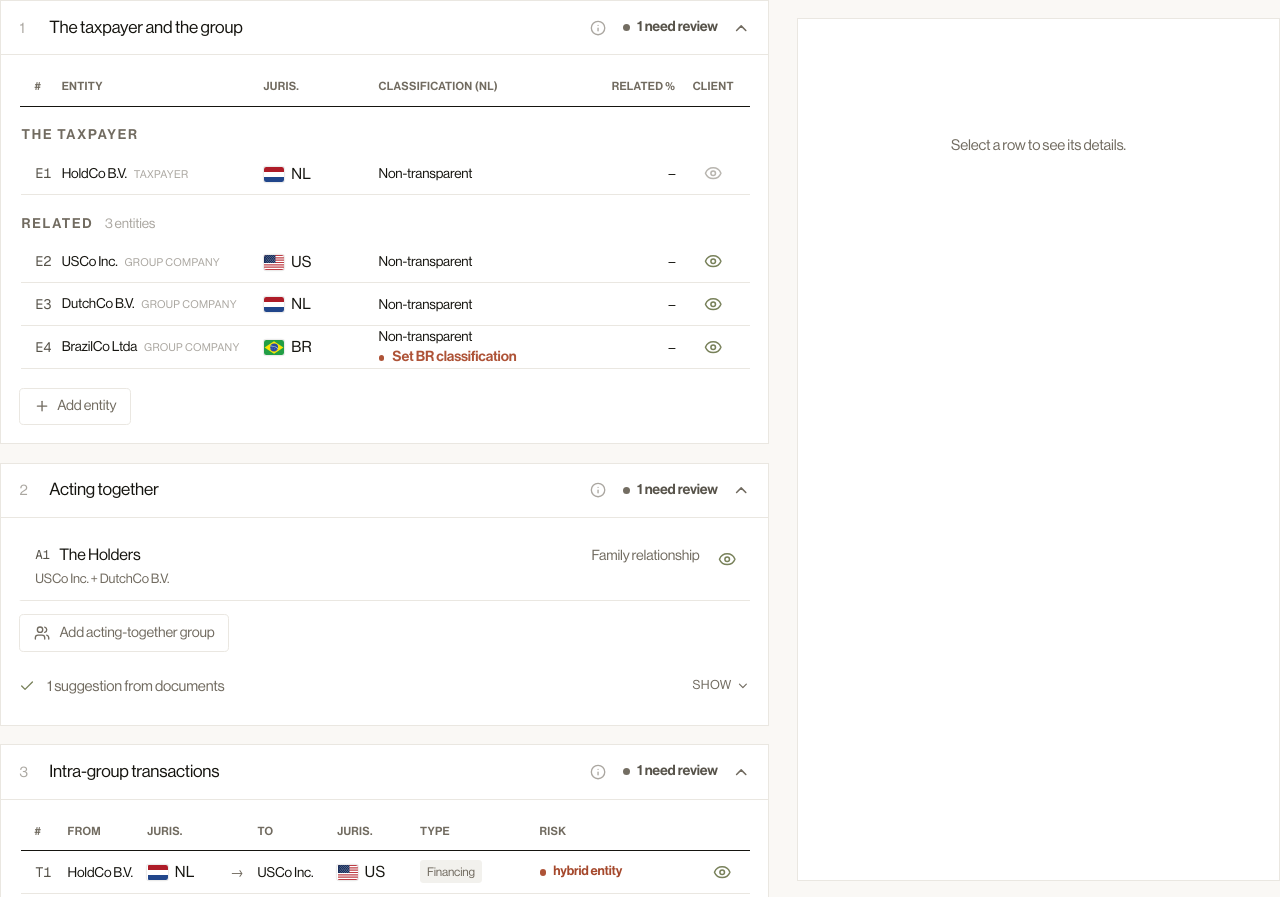
Test case: FactsPanelV2 — acting together (section 2) › rolls up document suggestions until Show
Expected: the text "1 suggestion from documents" is shown, left=47, top=675, right=225, bottom=697
Expected: the button "Use as a group" is not shown
Click the button "Show" at (721, 686), box left=693, top=676, right=750, bottom=695
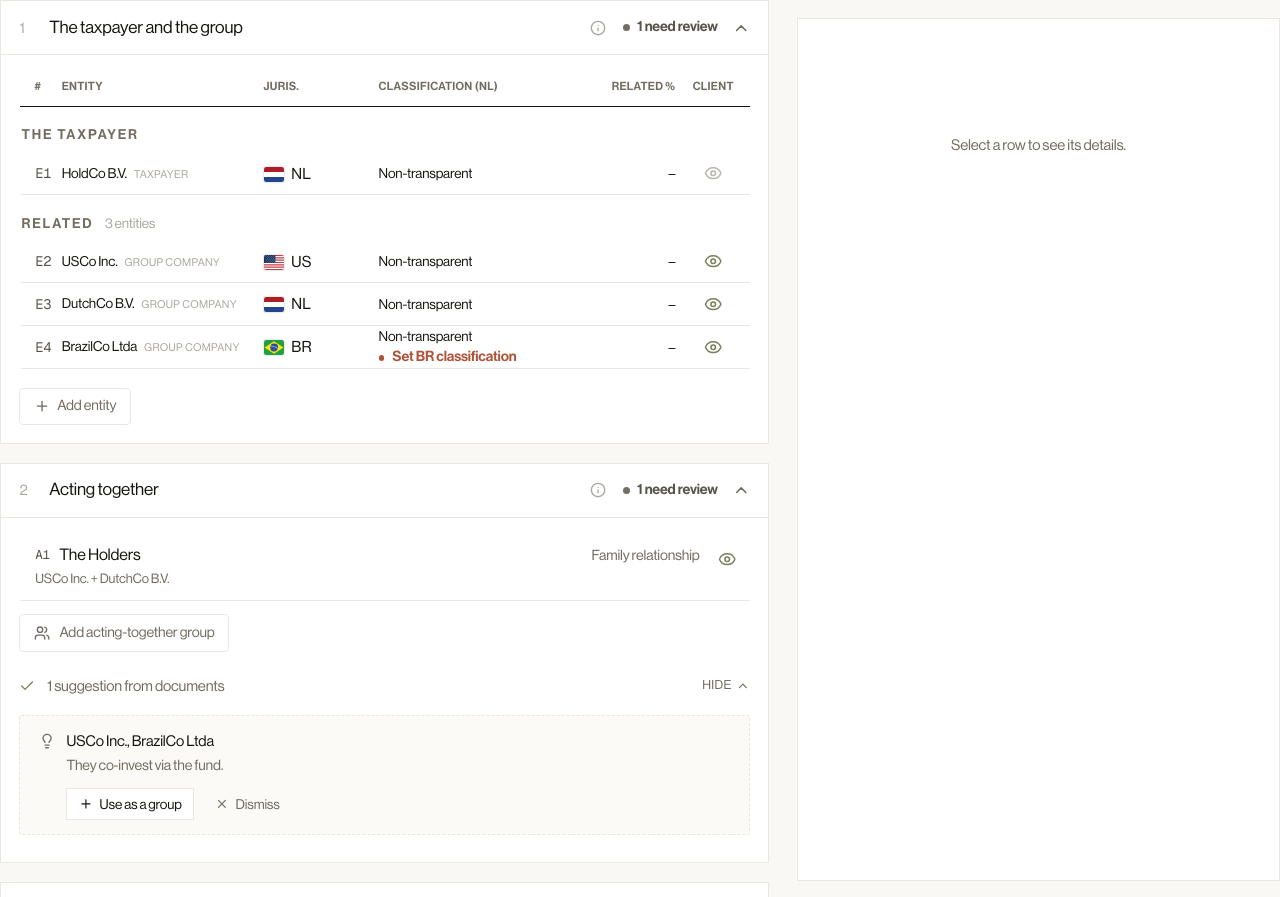
Now the button "Use as a group" is shown, box left=66, top=788, right=194, bottom=820
